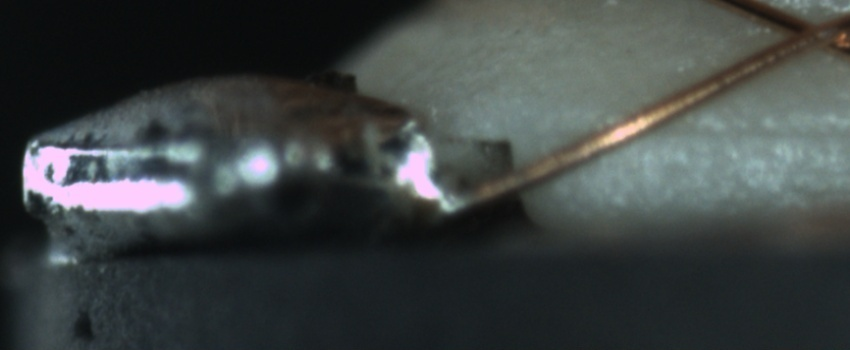CL: (758, 3, 844, 62)
DL: (611, 94, 847, 164)
